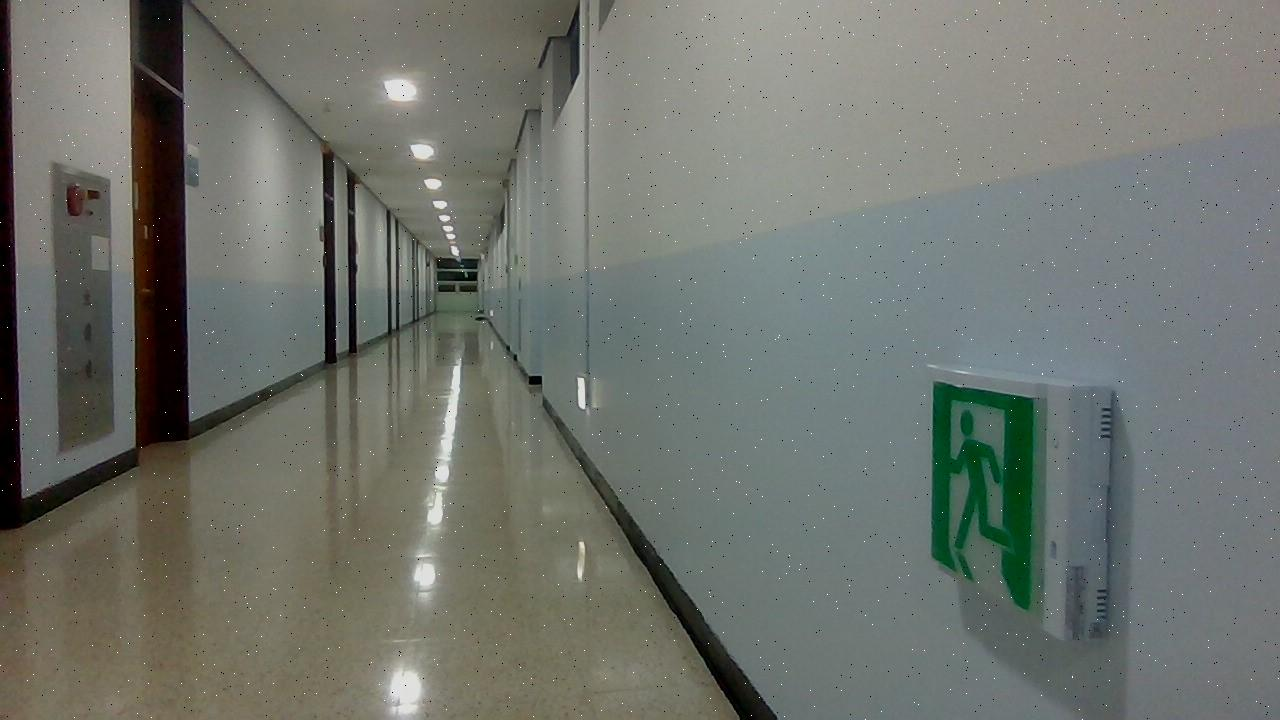emergency_exit: (927, 366, 1115, 642), (929, 379, 1037, 610)
